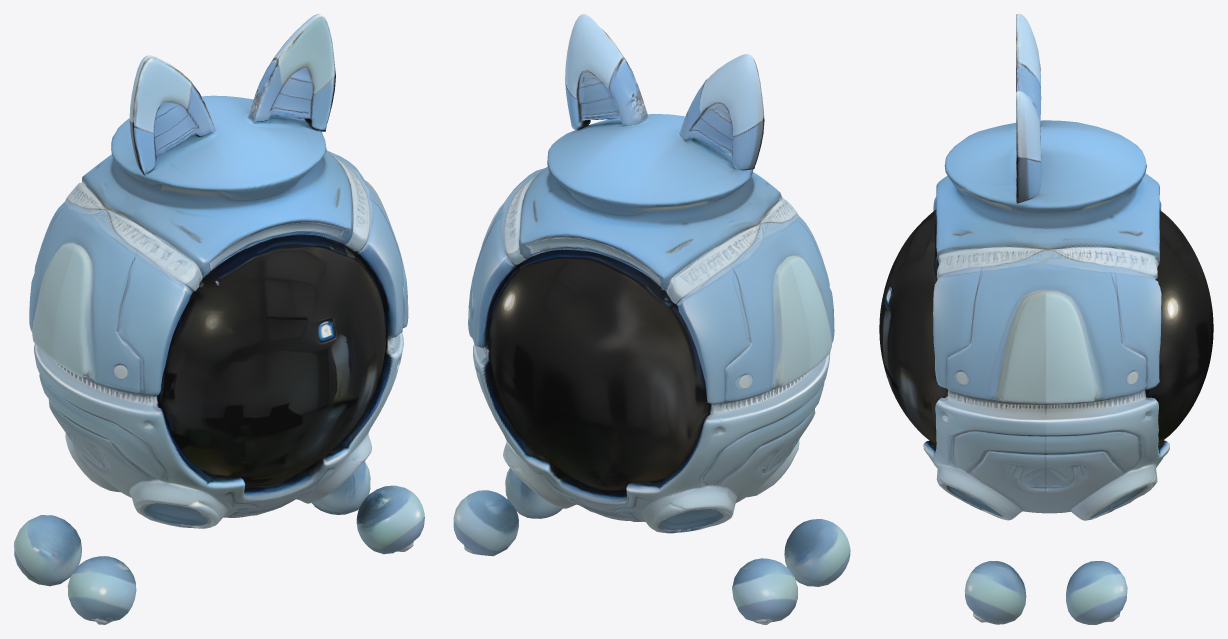
File: 04LightBlueModel.glb
3 views of the same model, side by side, from view 1: azimuth 30°, elevation 25°; view 2: azimuth 150°, elevation 25°; view 3: azimuth 270°, elevation 25° (orthographic). The views are drawn at different scales.
Parts seen in each view (by area): view 1: root.0, root.1, root.3, root.2, root.4, root.7, root.6, root.5; view 2: root.0, root.1, root.2, root.3, root.6, root.4, root.5, root.7; view 3: root.0, root.1, root.5, root.7, root.3, root.2.
Part boxes in pixels (x1,y1,x2,y2): root.0: (29, 95, 408, 528); root.1: (157, 235, 385, 485); root.3: (248, 14, 335, 131); root.2: (129, 55, 215, 175); root.4: (14, 515, 81, 586); root.7: (356, 485, 424, 554); root.6: (67, 556, 136, 624); root.5: (312, 461, 370, 514); root.0: (468, 114, 834, 533); root.1: (489, 250, 711, 490); root.2: (679, 54, 764, 170); root.3: (565, 14, 648, 129); root.6: (784, 519, 850, 586); root.4: (732, 558, 797, 624); root.5: (453, 490, 518, 556); root.7: (505, 468, 562, 518); root.0: (923, 120, 1169, 520); root.1: (879, 209, 1213, 444); root.5: (1066, 561, 1127, 624); root.7: (964, 561, 1026, 624); root.3: (1016, 90, 1041, 203); root.2: (1016, 14, 1041, 124).
Bounding box in the file's own units: 1.17 × 1.74 × 1.05.
Materials: 8 (8 with a texture image).
